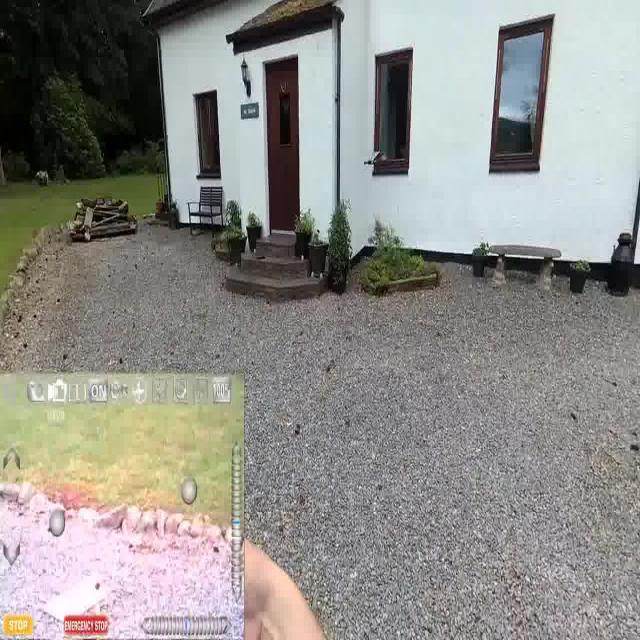drones: (359, 147, 386, 172)
